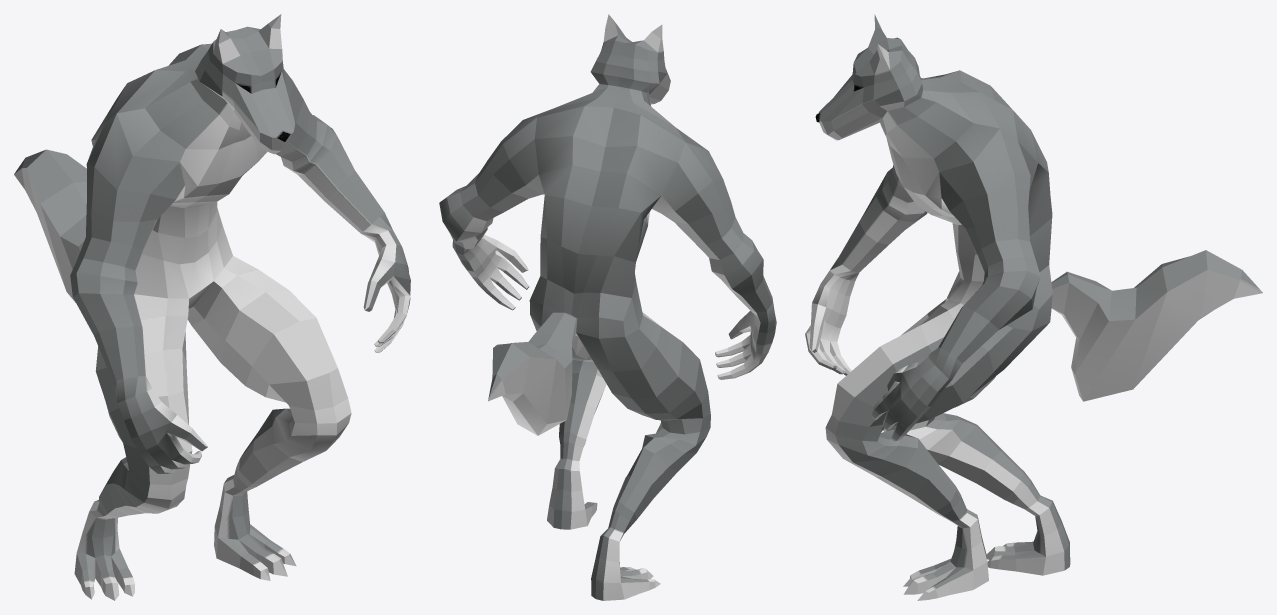
The model's file is WolfWalk(1).obj.
3 views of the same model, side by side, from view 1: azimuth 30°, elevation 25°; view 2: azimuth 150°, elevation 25°; view 3: azimuth 270°, elevation 25° (orthographic). The views are drawn at different scales.
Parts seen in each view (by area): view 1: Box001; view 2: Box001; view 3: Box001.
Part boxes in pixels (x1,y1,x2,y2): Box001: (14, 14, 410, 600); Box001: (439, 14, 776, 600); Box001: (805, 14, 1262, 600).
Size of the model in its own units: 81.64 by 137 by 101.
